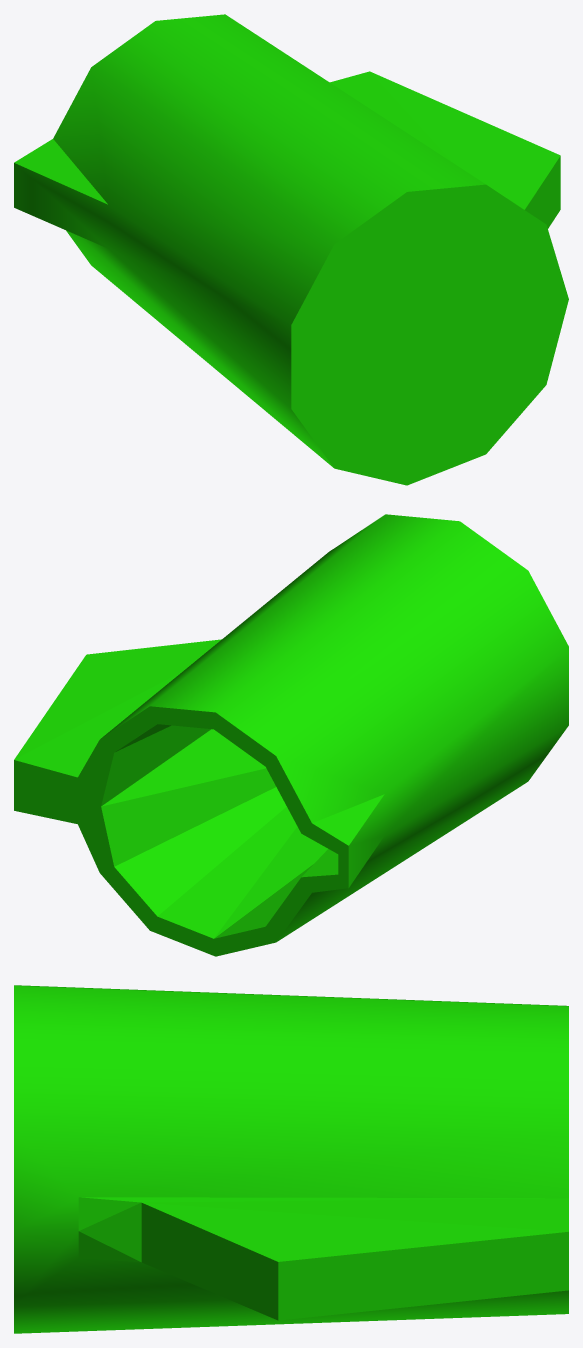
The model's file is SM_Teapot_01_Collider.fbx.
3 views of the same model, one above another, from view 1: azimuth 30°, elevation 25°; view 2: azimuth 150°, elevation 25°; view 3: azimuth 270°, elevation 25° (orthographic). The views are drawn at different scales.
Parts seen in each view (by area): view 1: SM_Teapot_01_Collider; view 2: SM_Teapot_01_Collider; view 3: SM_Teapot_01_Collider.
Boxes of the visible parts, x1=… form: SM_Teapot_01_Collider: x1=14, y1=14, x2=568, y2=485; SM_Teapot_01_Collider: x1=14, y1=514, x2=568, y2=956; SM_Teapot_01_Collider: x1=14, y1=985, x2=568, y2=1333.
Size of the model in its own units: 35.69 by 24.26 by 38.28.
